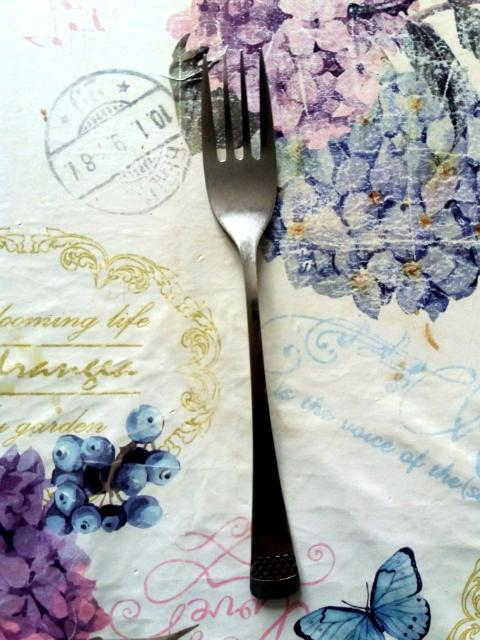Fork: (202, 52, 299, 599)
